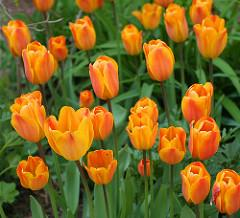tulip: (45, 107, 94, 160), (10, 91, 47, 141), (194, 14, 229, 57), (141, 38, 175, 81), (88, 54, 120, 99), (22, 41, 56, 83), (178, 162, 212, 202), (189, 117, 220, 160), (181, 80, 212, 121), (214, 168, 240, 214), (127, 113, 158, 147), (18, 156, 49, 189), (158, 127, 185, 164), (84, 150, 116, 181), (69, 15, 95, 47)
